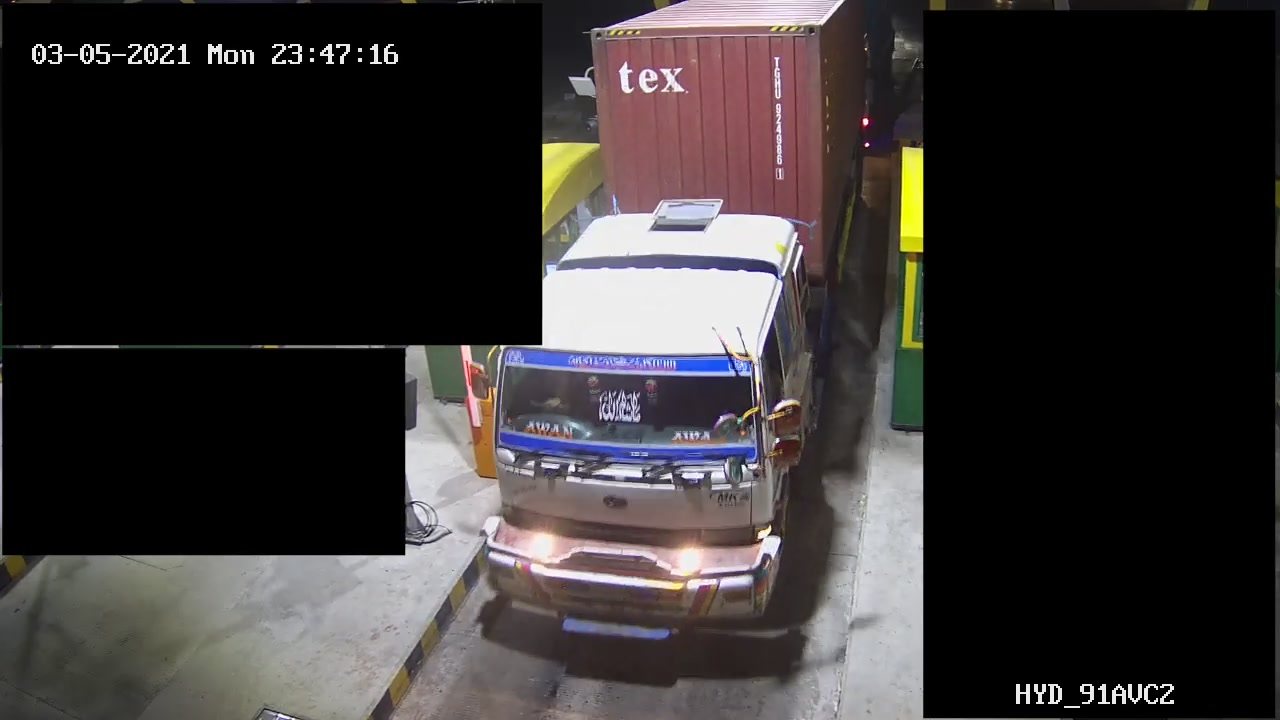F6: (468, 1, 901, 690)
